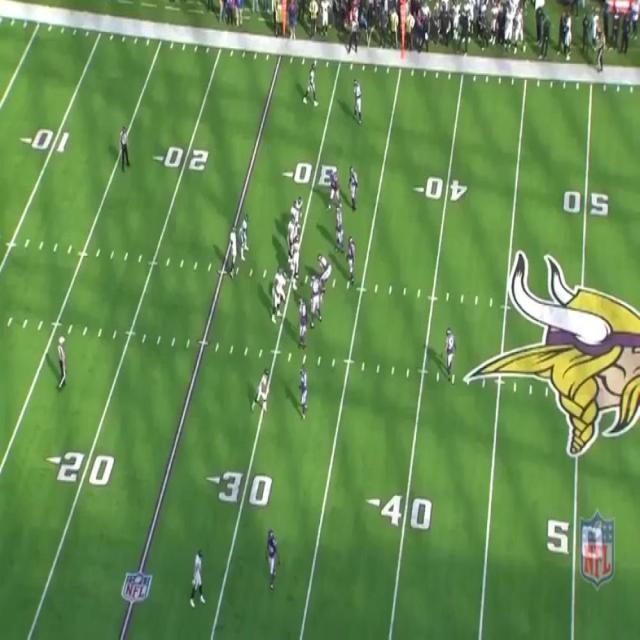center: (293, 235, 302, 282)
db: (352, 78, 369, 126), (445, 329, 458, 379), (268, 530, 280, 584), (300, 369, 309, 404)
lb: (349, 166, 364, 207), (346, 236, 356, 286), (337, 207, 347, 251)
qb: (229, 228, 239, 269)
skill: (191, 552, 207, 610), (305, 64, 318, 104), (290, 195, 305, 218), (258, 369, 267, 407), (241, 213, 249, 254)
